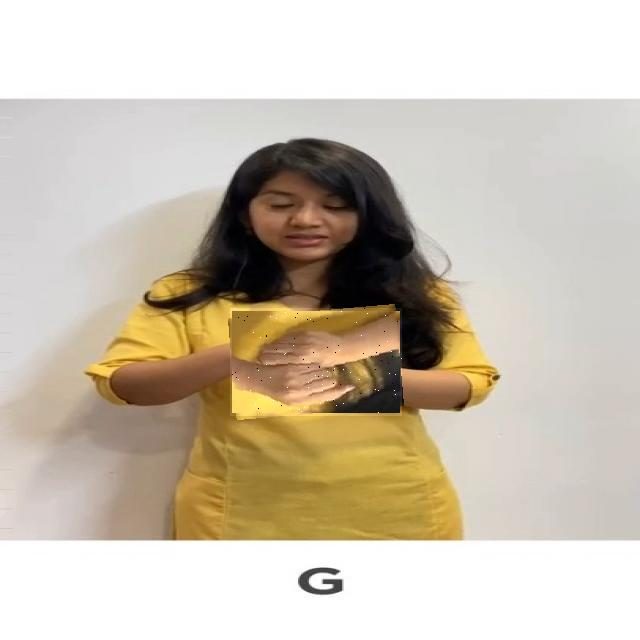G: (230, 308, 402, 416)
